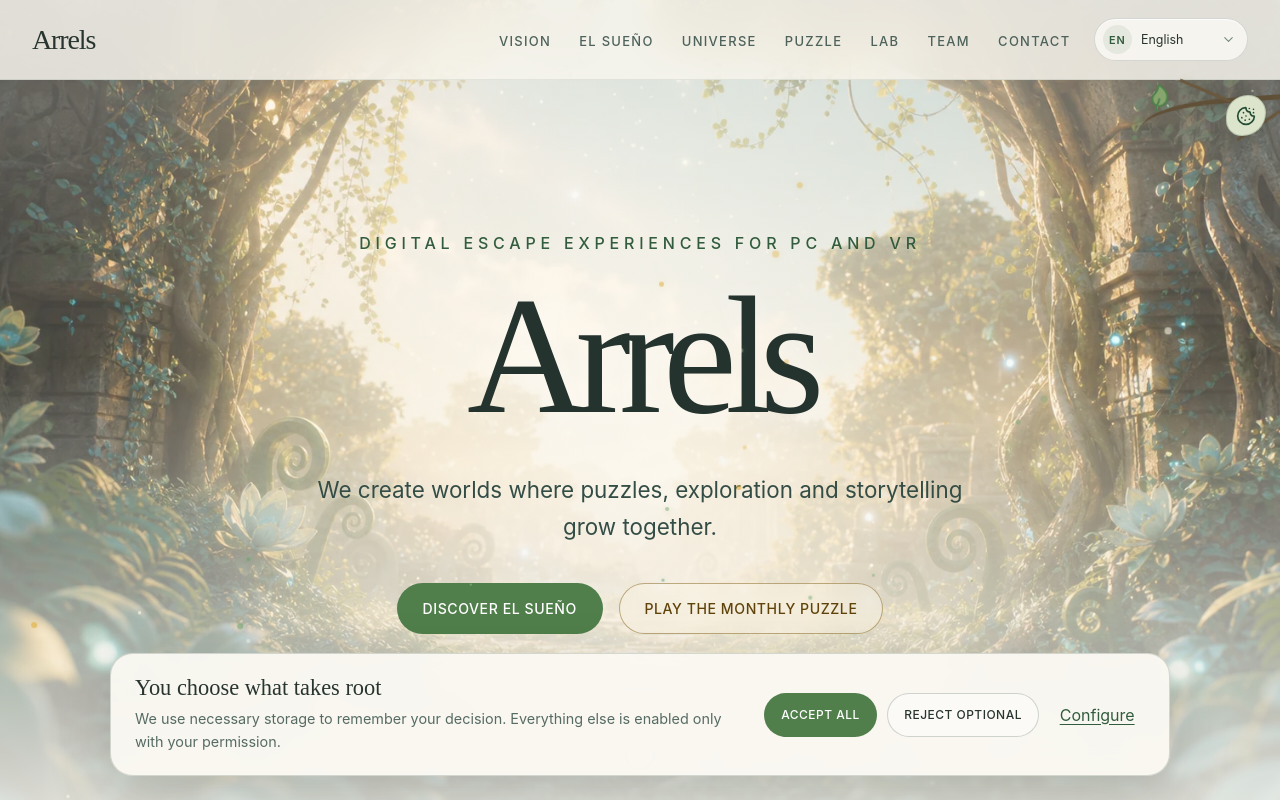
Scenario: Arrels website › keeps cookie preferences available after the initial decision
What coordinates should you click on to do the following:
click the button with test id "language-selector" showing "EN English"
I would click on:
 (1171, 40)
Its box is [1094,18,1248,61].
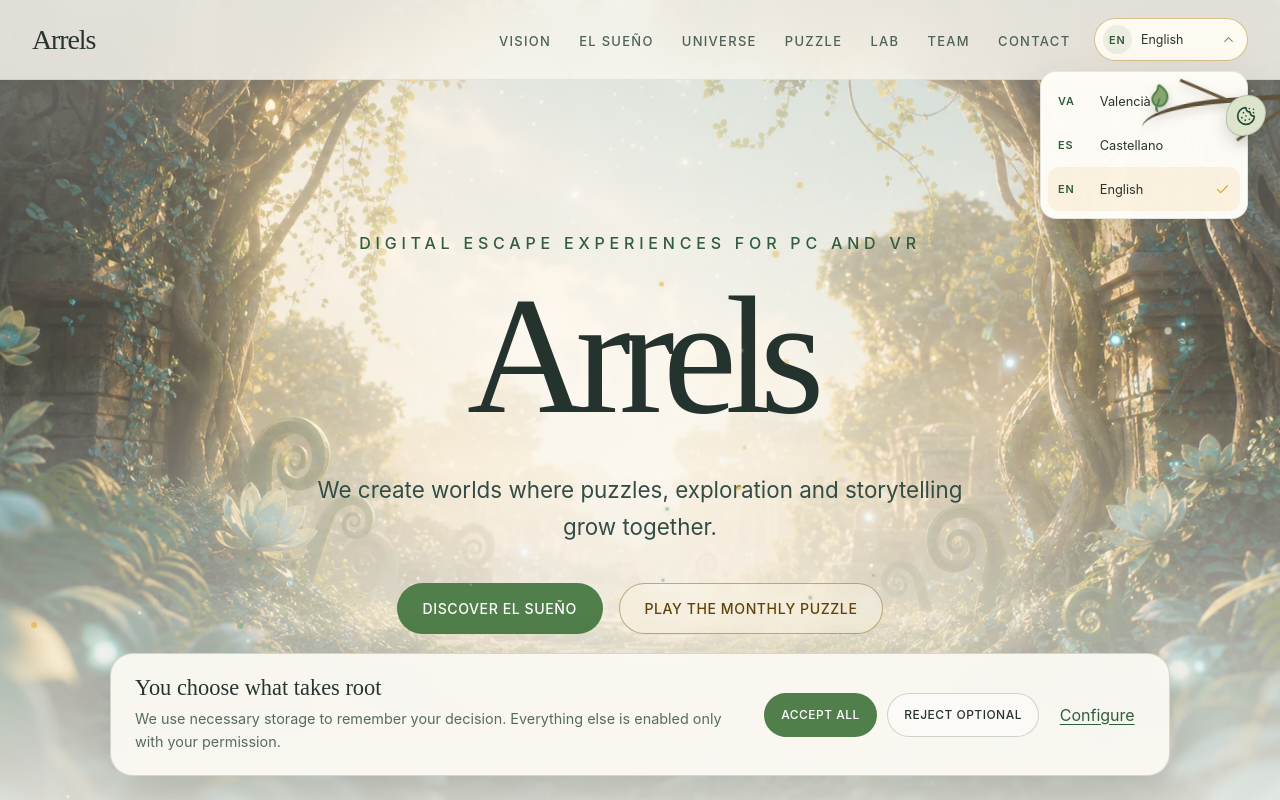
What coordinates should you click on to do the following:
click the option "ES Castellano"
I would click on:
 (1144, 145)
Its box is [1048,123,1240,167].
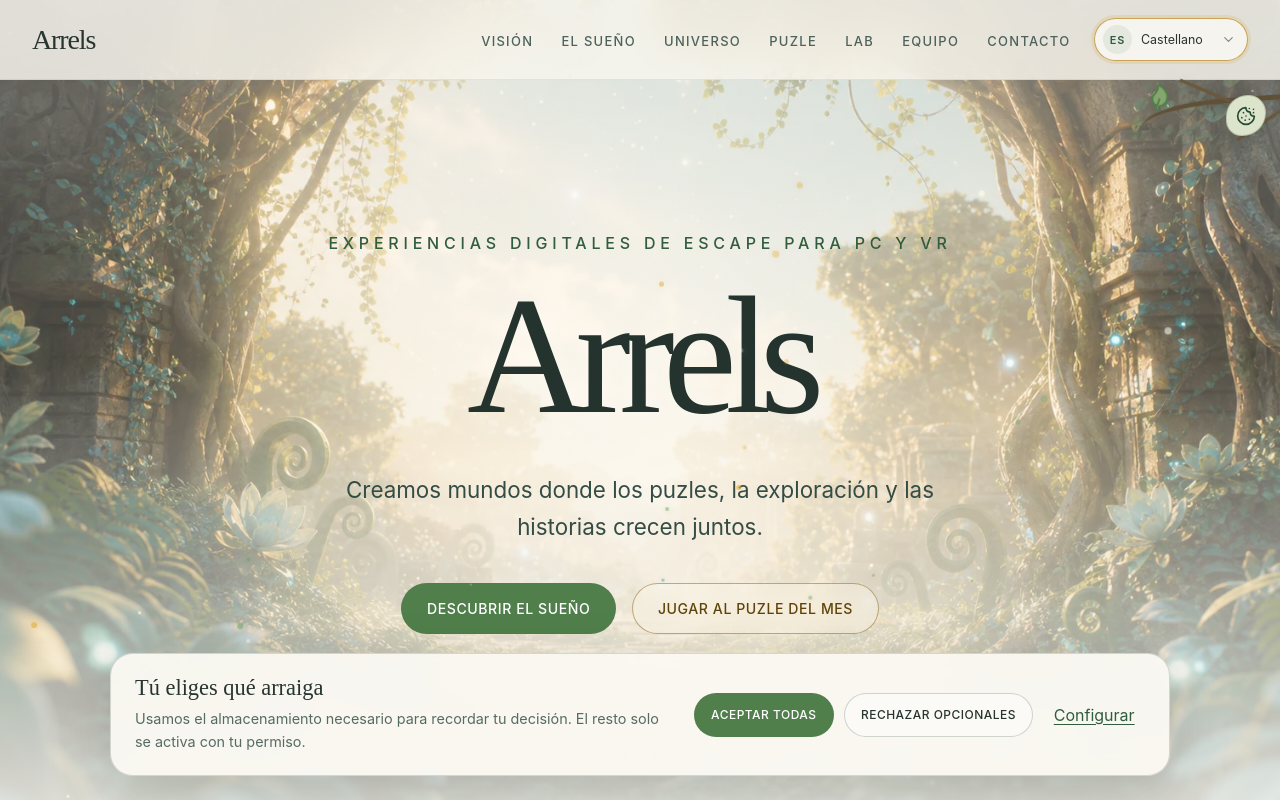
What coordinates should you click on to do the following:
click the button "Rechazar opcionales"
I would click on:
 (938, 715)
Its box is [844,693,1033,737].
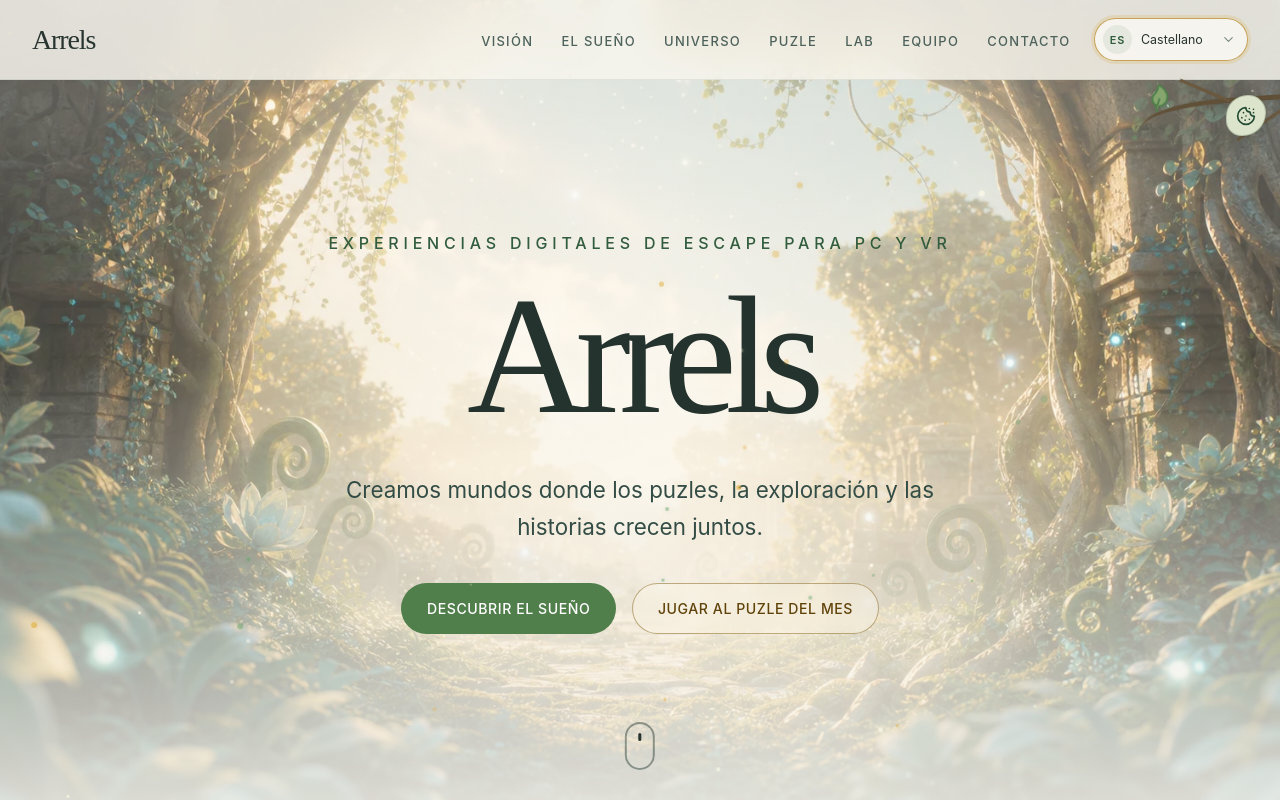
Check: the heading "Tú eliges qué arraiga" is gone
What coordinates should you click on to do the following:
click the button named "Abrir preferencias de cookies"
I would click on:
 (1246, 116)
Its box is [1226,95,1266,136].
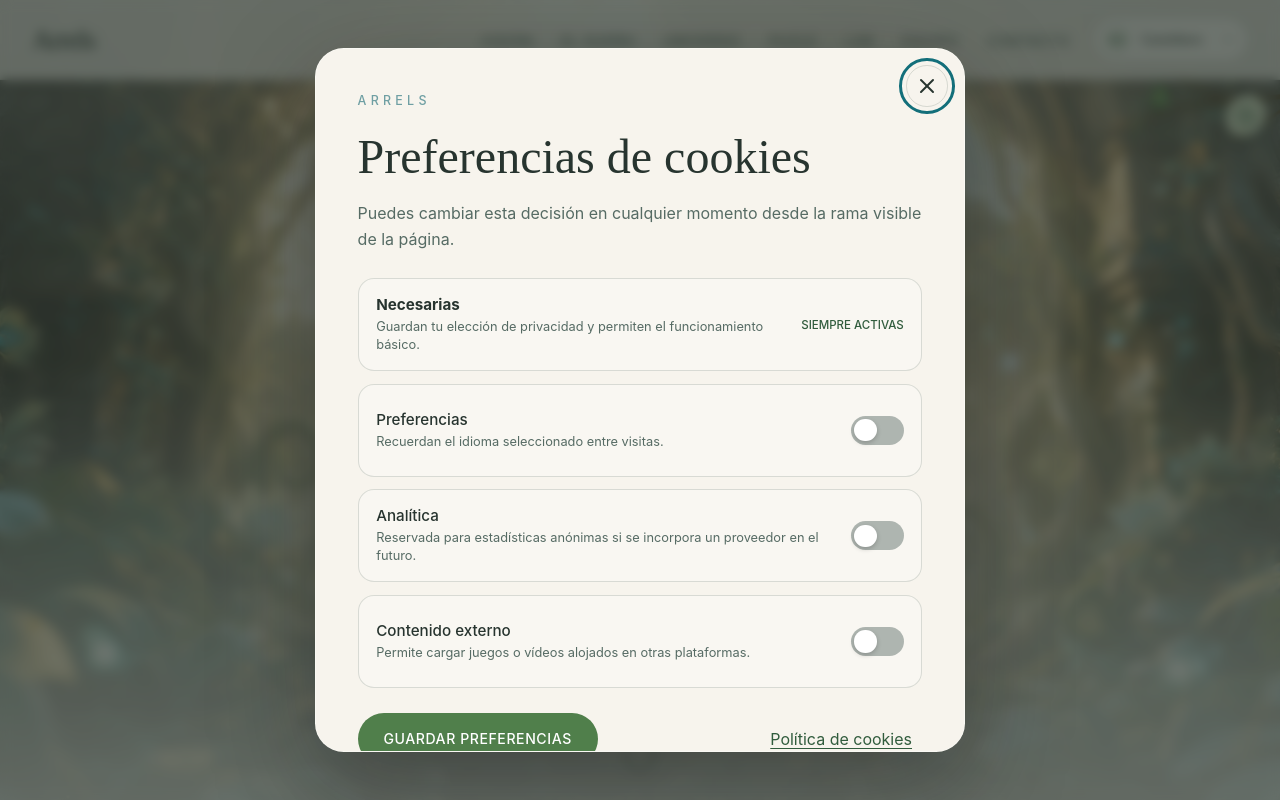
Check: the dialog is shown, box [315,48,965,752]
Check: the heading "Preferencias de cookies" is shown, box [358,130,811,183]
